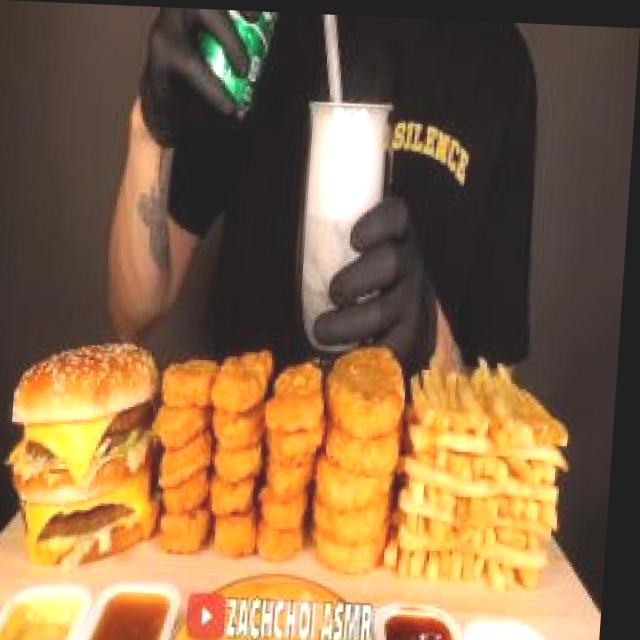Hashbrown: (309, 307, 425, 598)
burger: (3, 326, 179, 575)
french fries: (394, 328, 587, 604)
nugget: (145, 328, 341, 583)
sprite: (286, 69, 413, 338)
